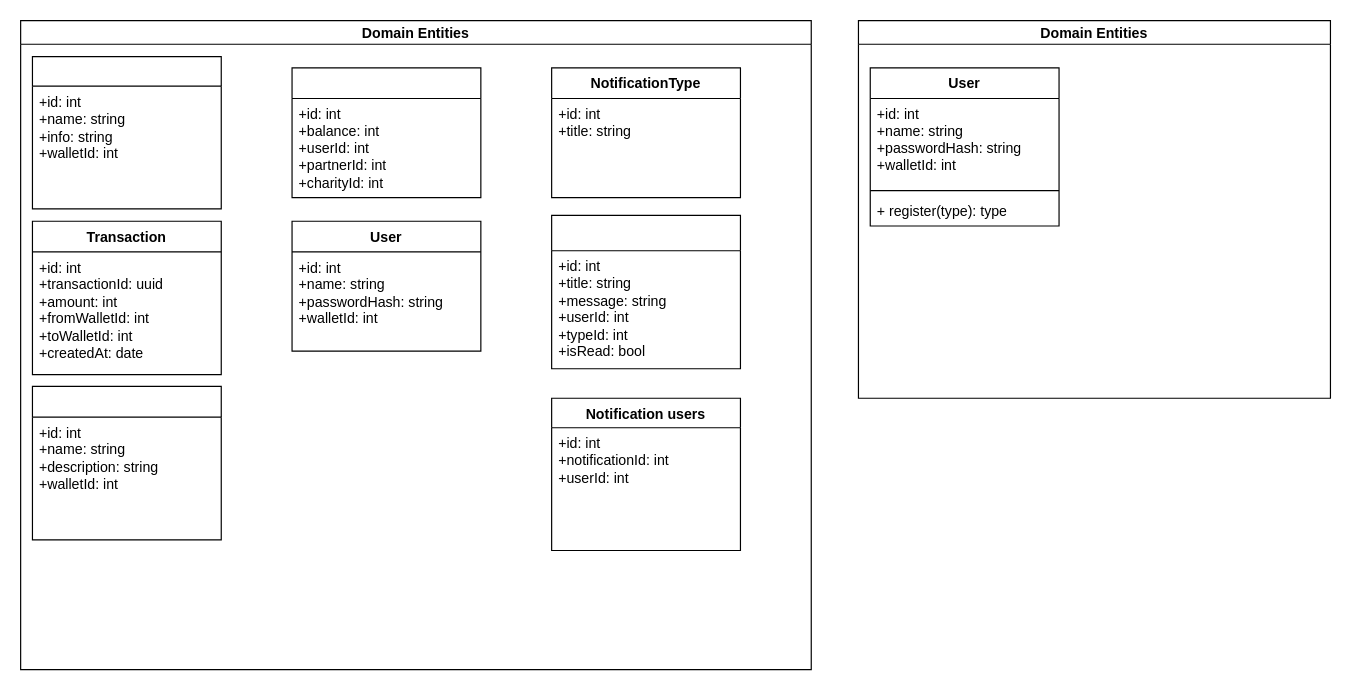
Some shapes in this 1351 by 690 pixel diagram are drawn without their labels. The shapes that lost their labels are listed below. From the top down, each one's box as (x1, y1, x2, y2) in pixels, then its label:
(31, 55, 221, 209): Partner
(291, 67, 481, 198): Wallet
(550, 214, 740, 369): Notification
(31, 385, 221, 540): Charity
